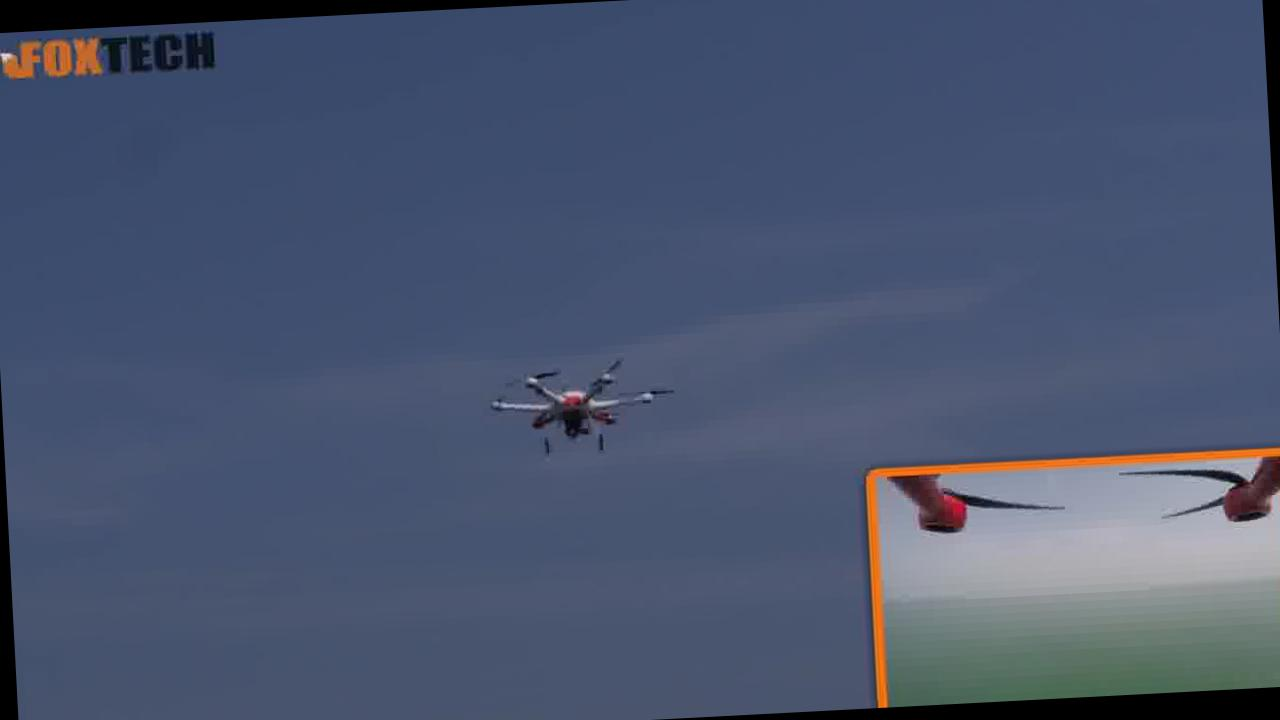drone: (481, 336, 681, 486)
